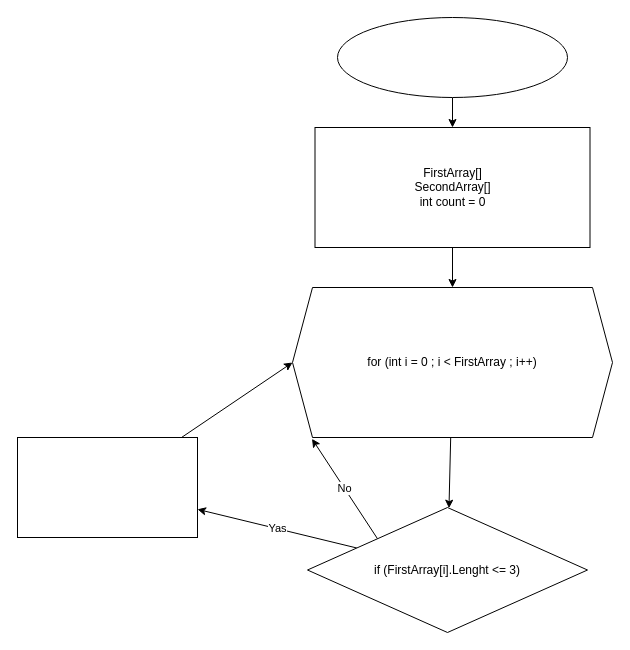
The diagram is 630 pixels wide and 650 high, and some of its shapes have lost their labels. The box of each missing label's shape, as (x1, y1, x2, y2) in pixels:
SecondArray[count] = FirstArray[i] count++: (16, 436, 198, 538)
Start: (336, 16, 568, 98)
